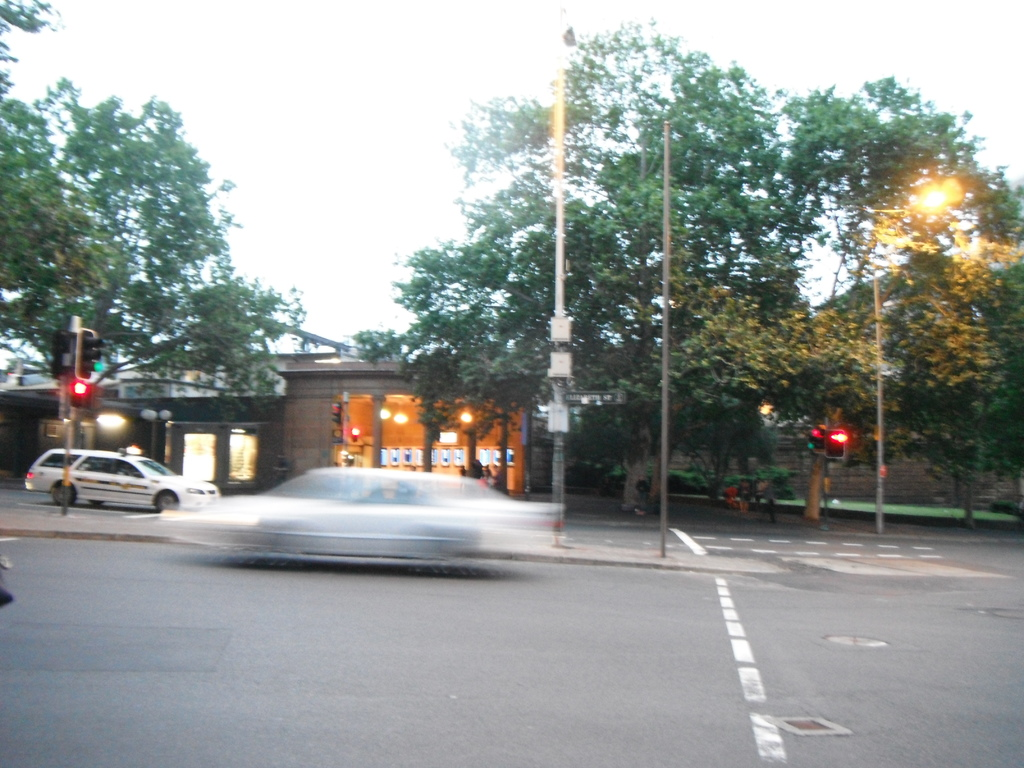red_light: (70, 379, 91, 398), (835, 431, 848, 445)
